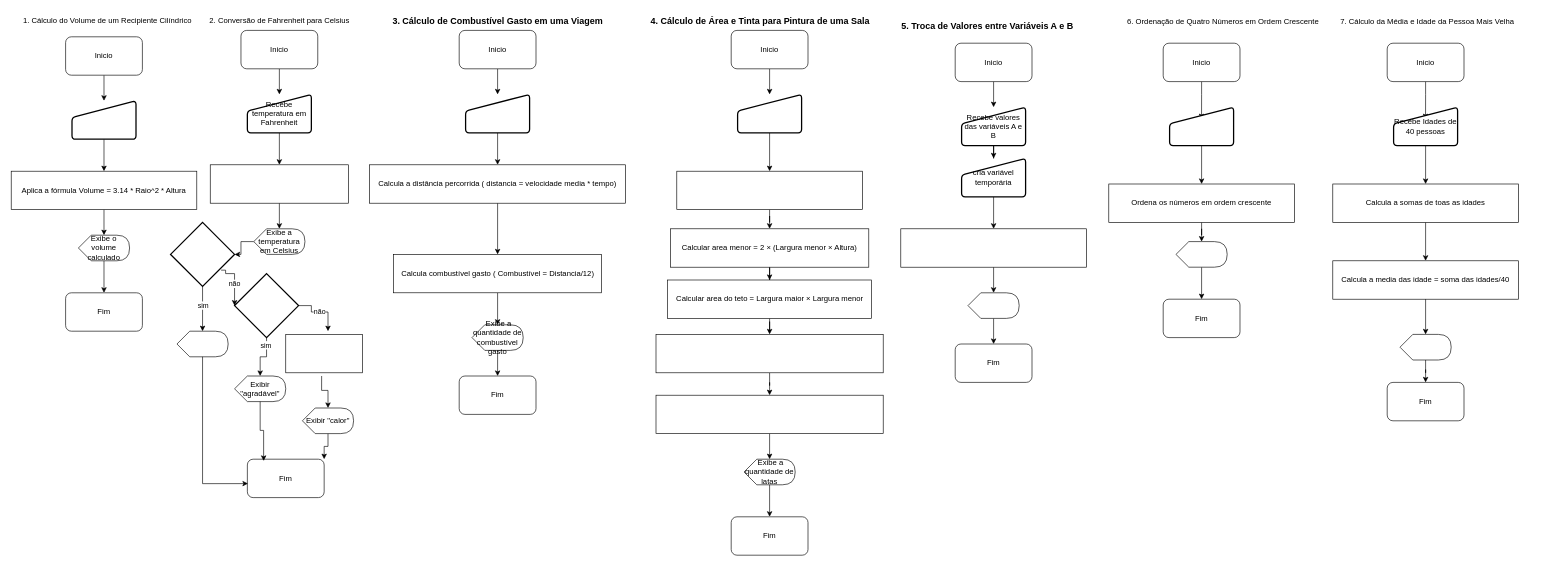
Some shapes in this 1549 by 566 pixel diagram are drawn without their labels. Here are the shapes that lost their labels. From the top down, the centre of each, then its label:
(103,120): Recebe raio e altura do cilindro
(497,113): Recebe t empo gasto e velocidade média
(769,113): Recebe Largura da parede maior, altura da parede, largura da parede menor
(1201,126): Recebe q uatro números
(279,183): Aplica a fórmula C = ( F − 32 ) × 5/9
(769,190): Calcula area maior = 2 × (Largura maior × Altura)
(202,254): <17 °C
(993,247): Troca os valores de A e B usando uma variável temporária
(1201,254): Exibe os números ordenados
(266,305): 17°C a 25°C
(993,305): Exibe os valores trocados
(202,344): Exibir "frio"
(324,353): >25°C
(769,353): Calcula area total = Área maior + Área menor + Área do teto
(1425,347): Exibe a média das idades e a idade da pessoa mais velha
(769,414): Calcula numero de latas = area total / 12 (arredondado para cima)
